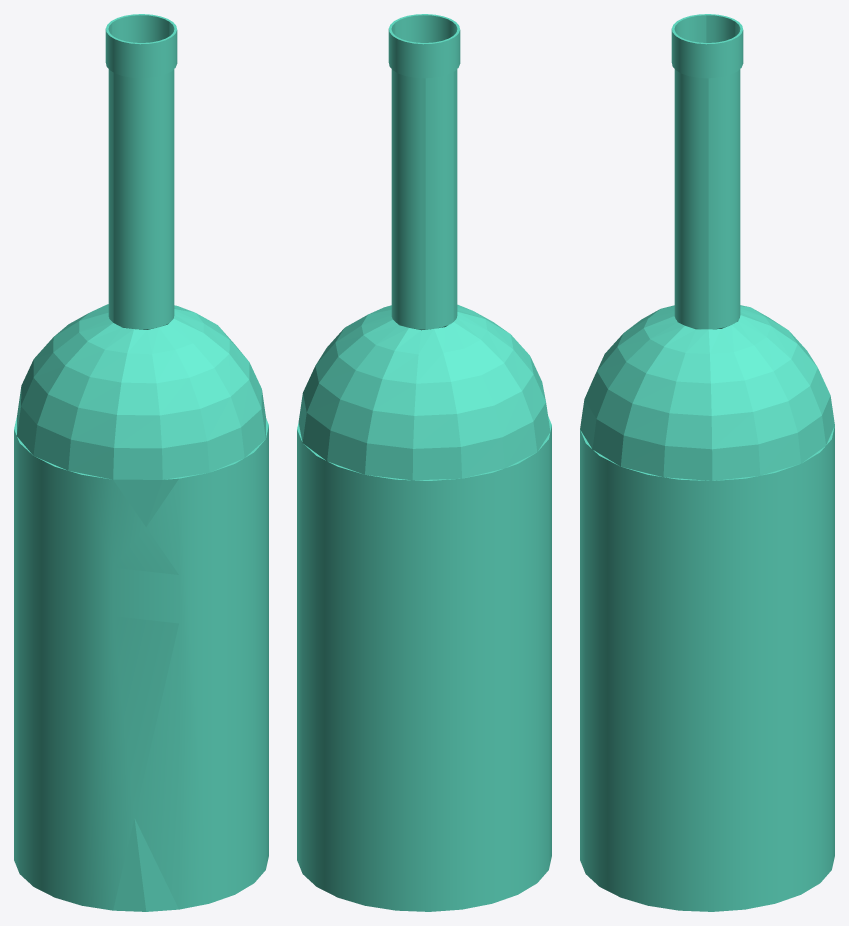
3 views of the same model, side by side, from view 1: azimuth 30°, elevation 25°; view 2: azimuth 150°, elevation 25°; view 3: azimuth 270°, elevation 25° (orthographic).
Parts seen in each view (by area): view 1: mesh1_mesh1-geometry, mesh2_mesh2-geometry; view 2: mesh1_mesh1-geometry, mesh2_mesh2-geometry; view 3: mesh1_mesh1-geometry, mesh2_mesh2-geometry.
Part boxes in pixels (x1,y1,x2,y2): mesh1_mesh1-geometry: [14, 304, 268, 911]; mesh2_mesh2-geometry: [105, 14, 177, 329]; mesh1_mesh1-geometry: [297, 304, 551, 911]; mesh2_mesh2-geometry: [388, 14, 460, 329]; mesh1_mesh1-geometry: [580, 305, 834, 911]; mesh2_mesh2-geometry: [671, 14, 743, 329].
Size of the model in its own units: 0.2593 by 0.9303 by 0.2593.
